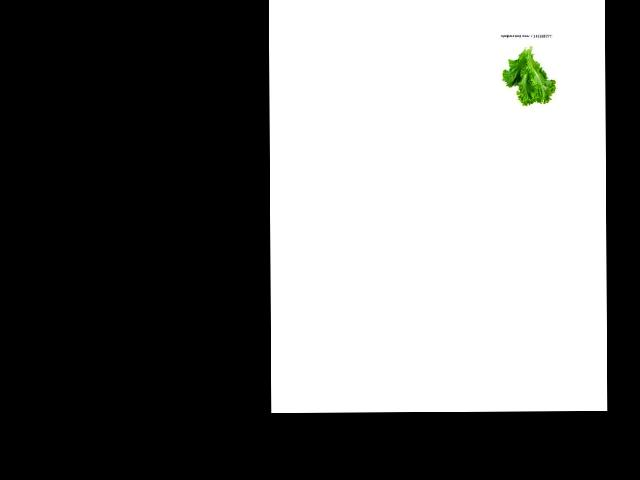lettuce: (500, 42, 555, 107)
